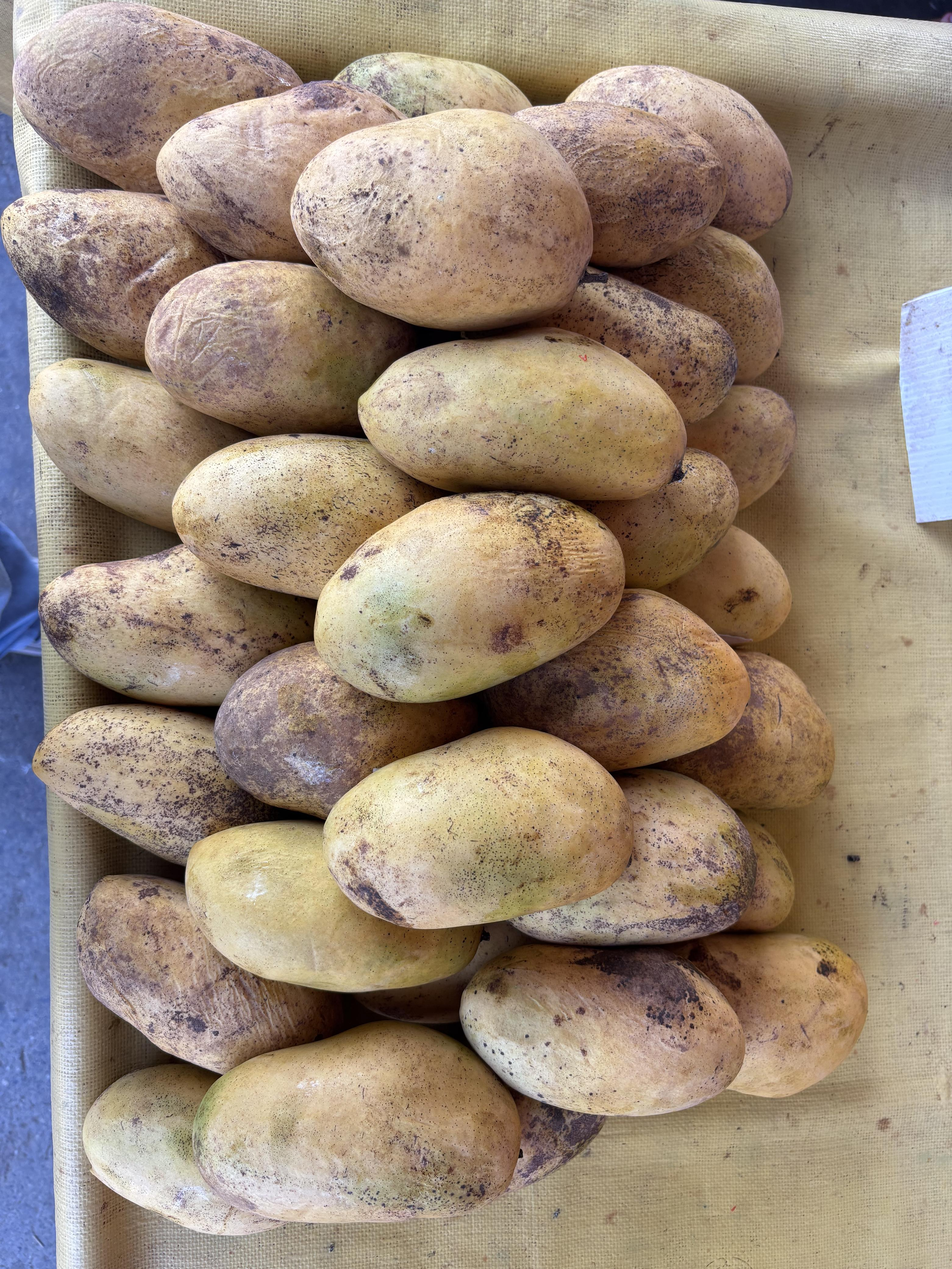mango: (292, 109, 592, 330), (194, 1022, 520, 1222), (316, 492, 624, 702), (323, 727, 632, 929), (359, 329, 685, 500), (462, 945, 744, 1116)
occluded: (14, 3, 301, 193), (77, 875, 341, 1073), (186, 820, 482, 993), (484, 589, 750, 771), (145, 260, 413, 435), (215, 641, 478, 819), (39, 545, 315, 706), (158, 82, 400, 262), (173, 434, 437, 598), (512, 770, 757, 945), (567, 66, 792, 241), (34, 703, 276, 864), (30, 358, 250, 531), (3, 190, 221, 363), (514, 103, 727, 267), (83, 1064, 281, 1236), (673, 930, 868, 1097), (530, 270, 737, 424), (661, 650, 834, 809), (616, 227, 783, 383), (579, 449, 739, 589), (661, 526, 791, 641), (687, 386, 797, 509), (335, 52, 529, 117), (507, 1092, 605, 1193)
